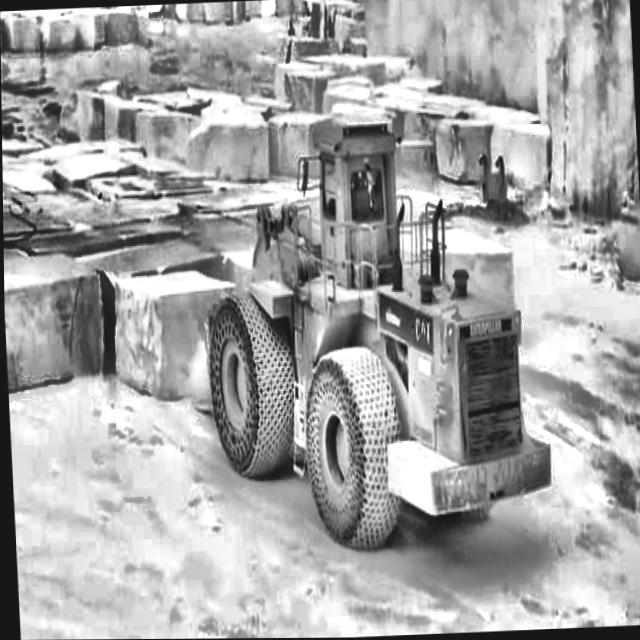buldozerpayloadergrader: (195, 104, 555, 559)
